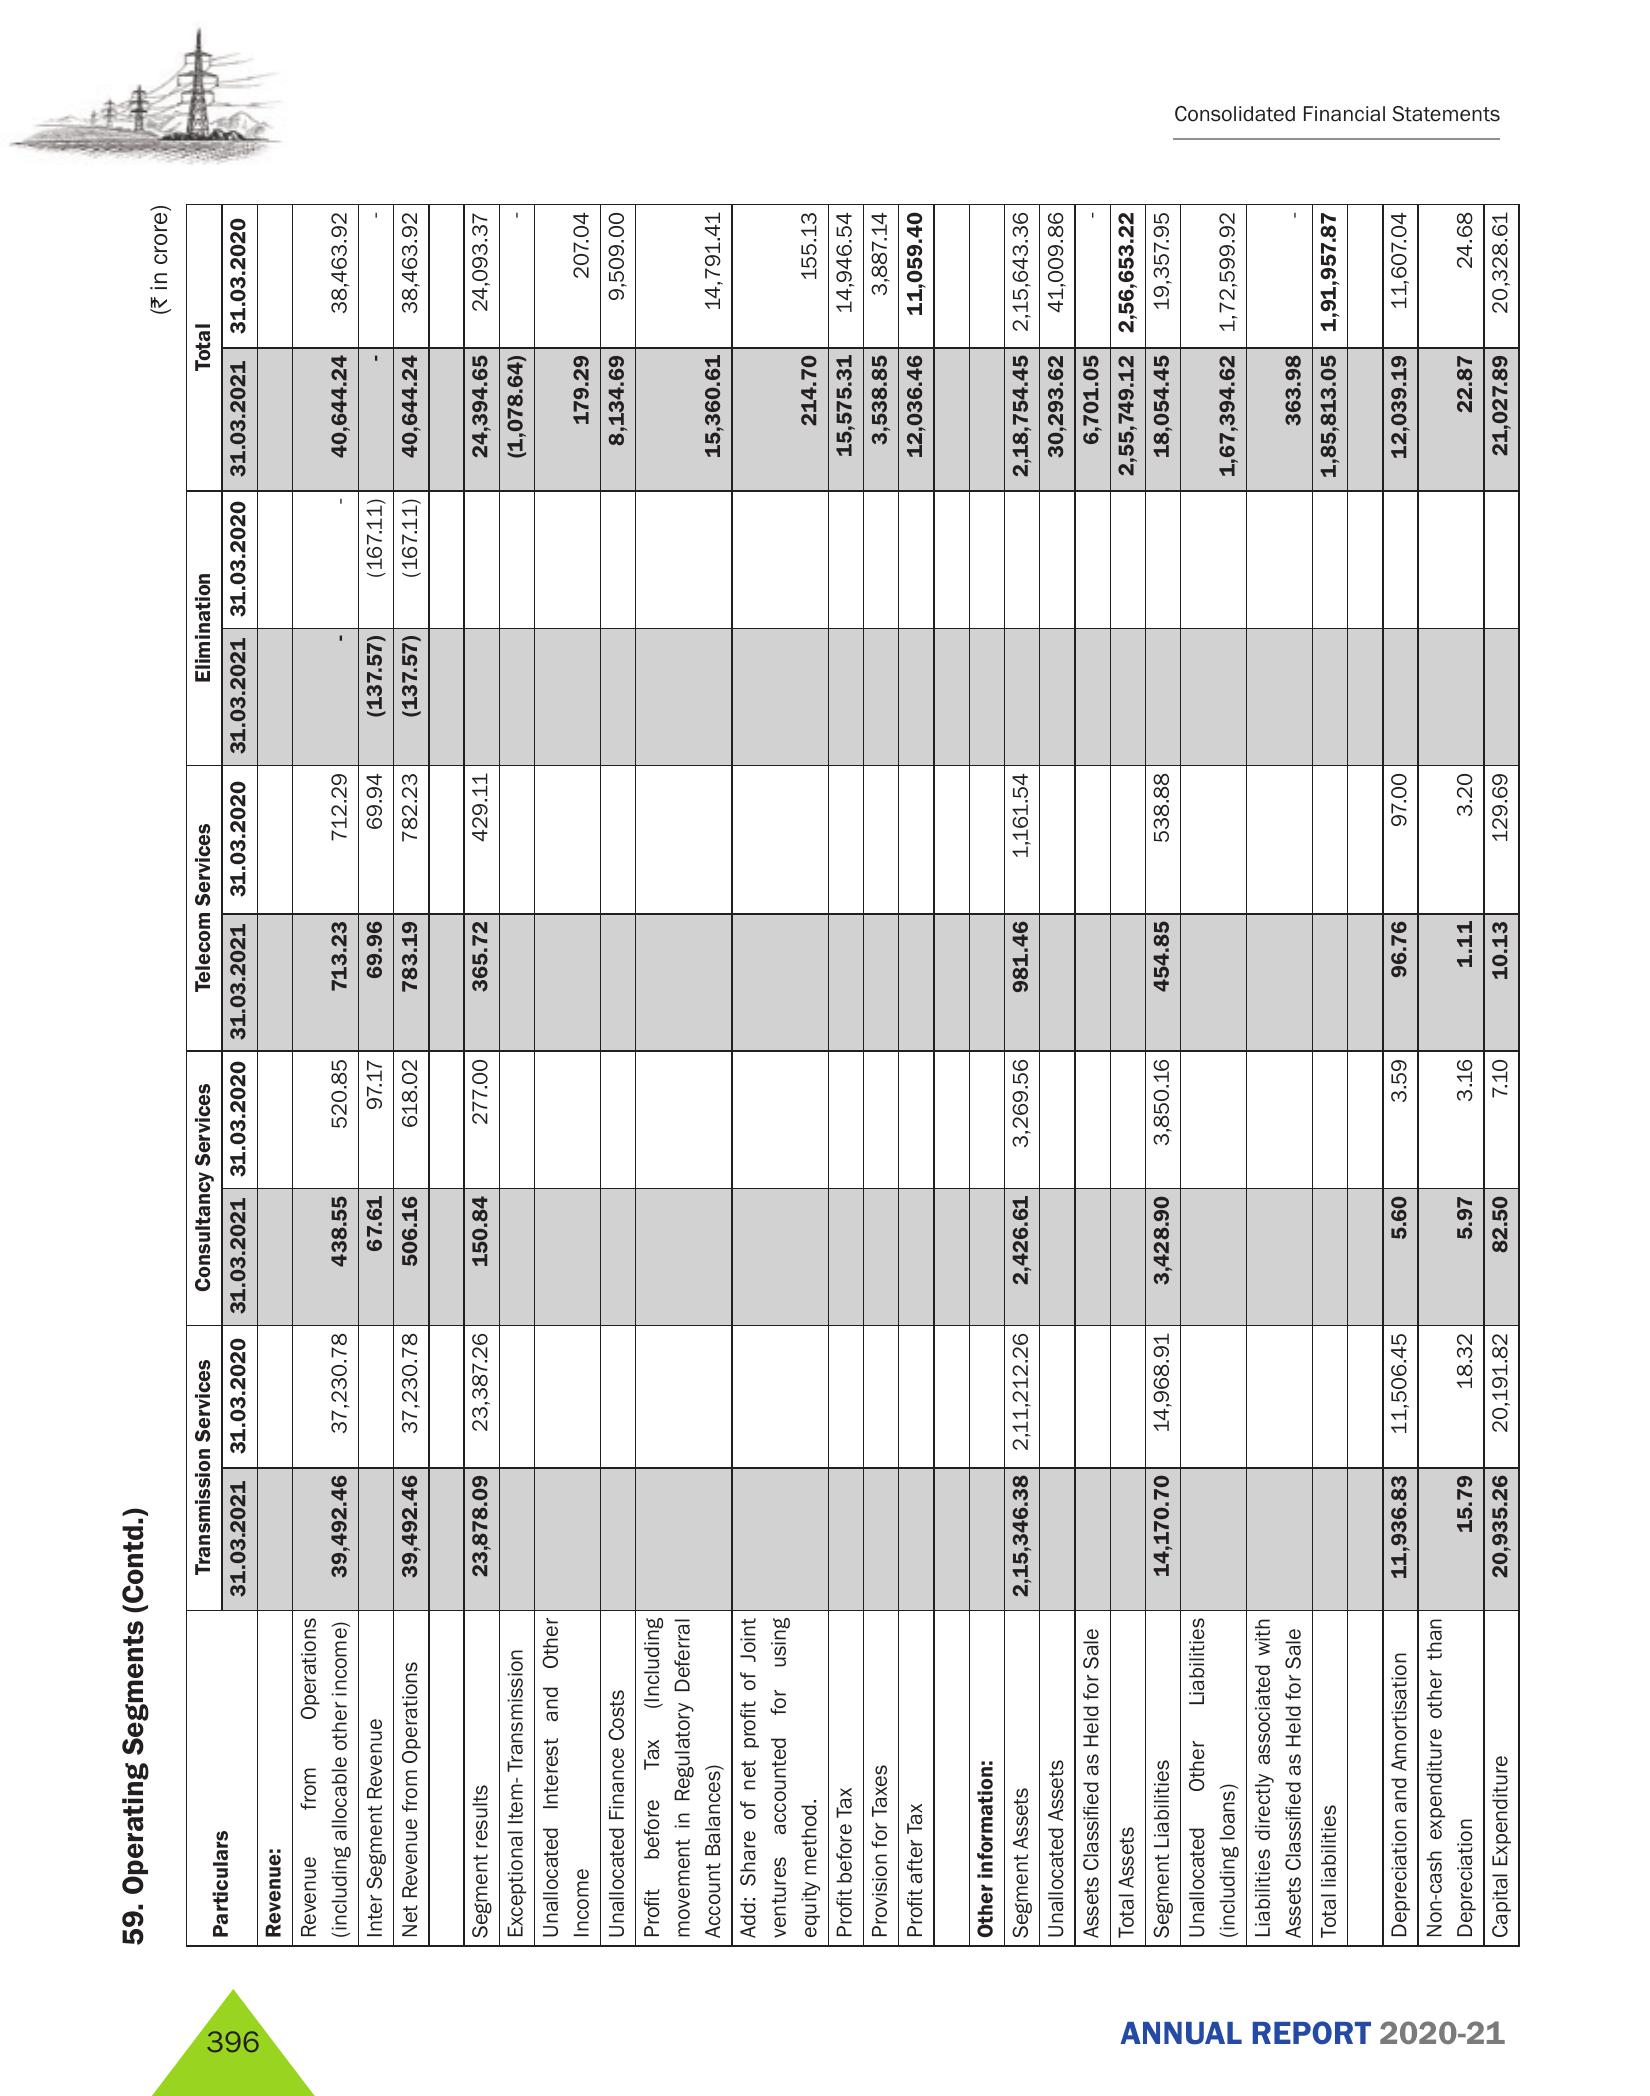Footer: (0, 1953, 1650, 2096)
Header: (0, 0, 1650, 175)
Table: (126, 175, 1556, 1956)
